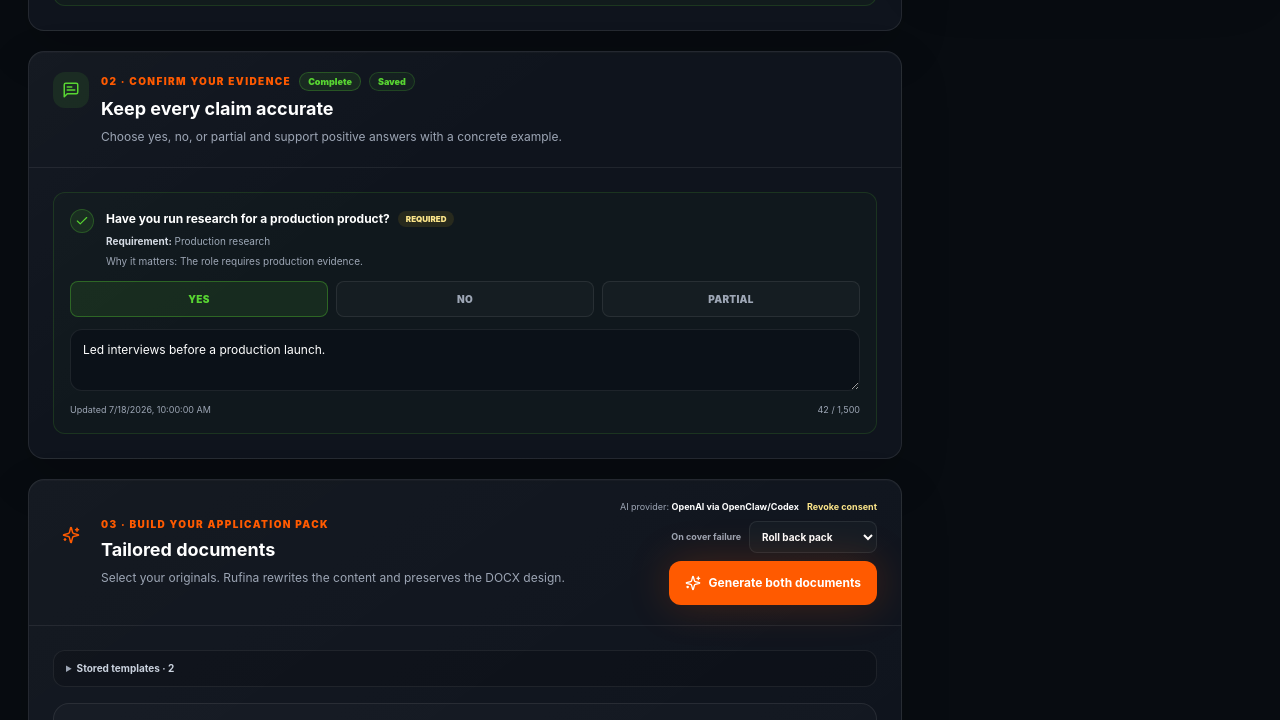
it: ApplicationWorkspace › blocks generation until edited confirmations are saved
(page scrolled)
Expected: the button "Generate both documents" is enabled, top-left (668, 561), bottom-right (877, 605)
Replace the text in the text box with placeholder "Add a true, concrete example" with "Led interviews before two production launches." at (465, 360), box top-left (70, 329), bottom-right (860, 391)
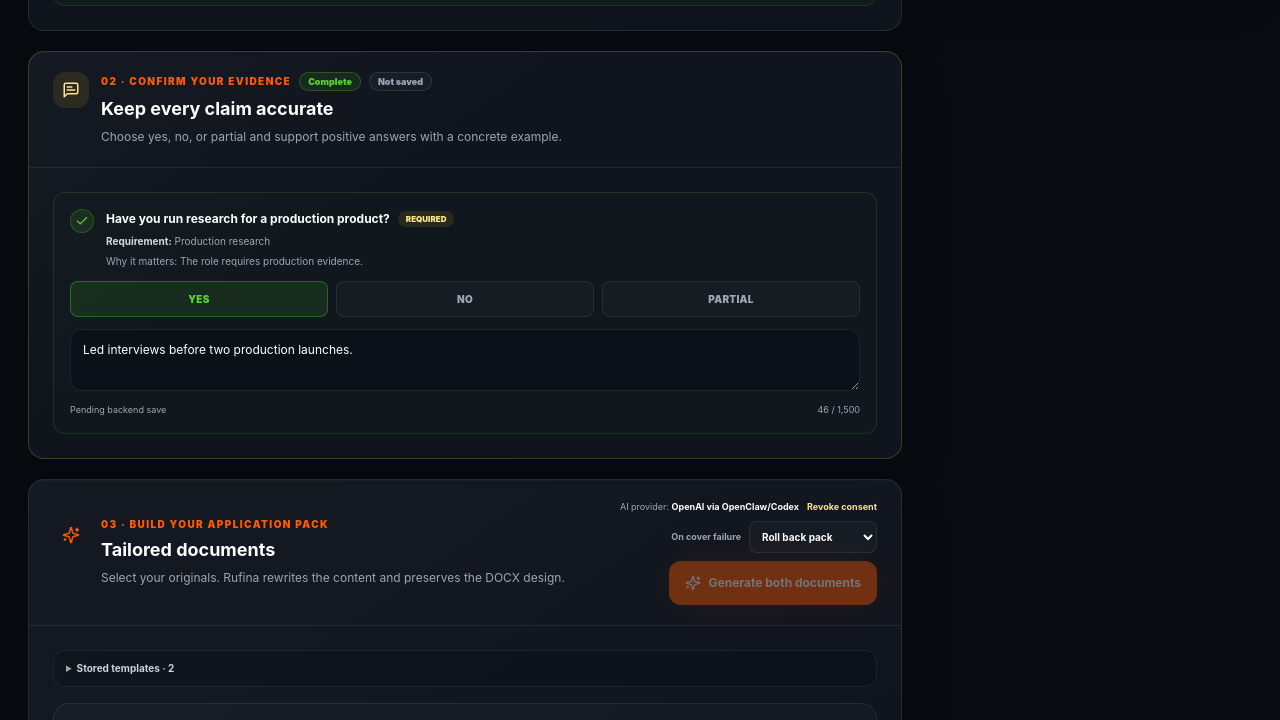
Expected: the button "Generate both documents" is disabled
Click the button "Generate both documents" at (773, 583), box top-left (668, 561), bottom-right (877, 605)
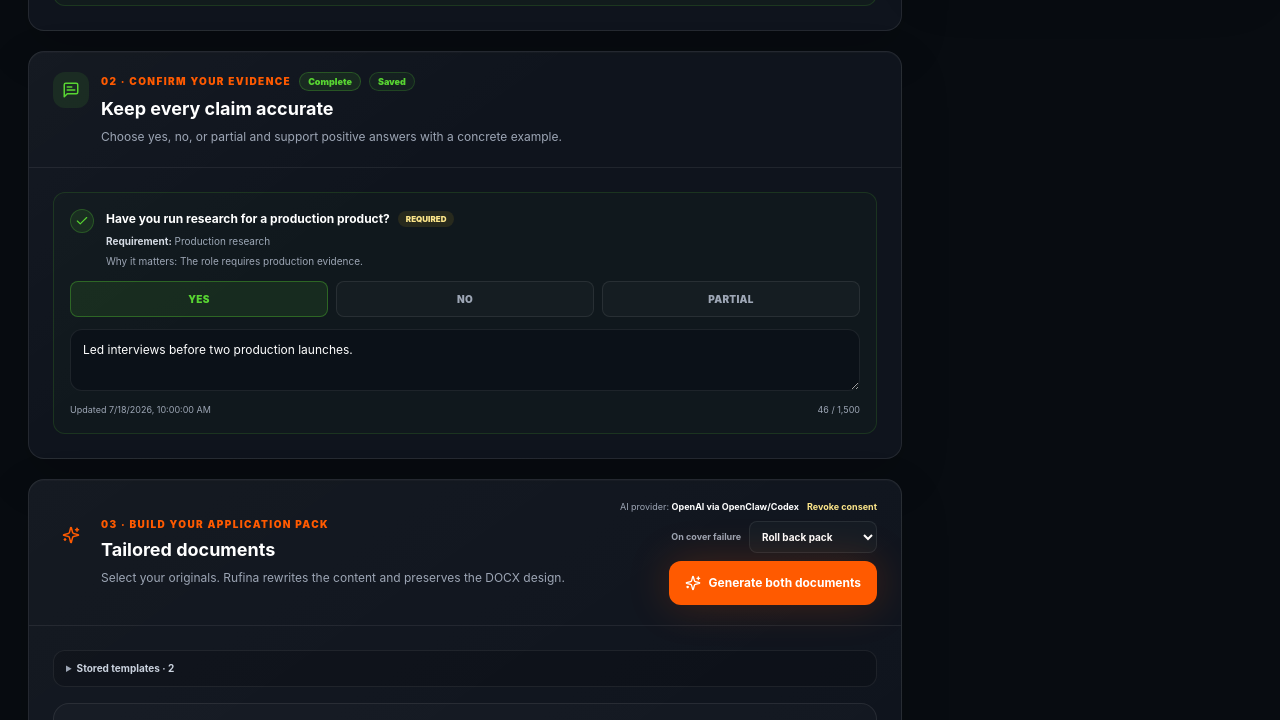
Expected: the button "Generate both documents" is enabled, top-left (668, 561), bottom-right (877, 605)
